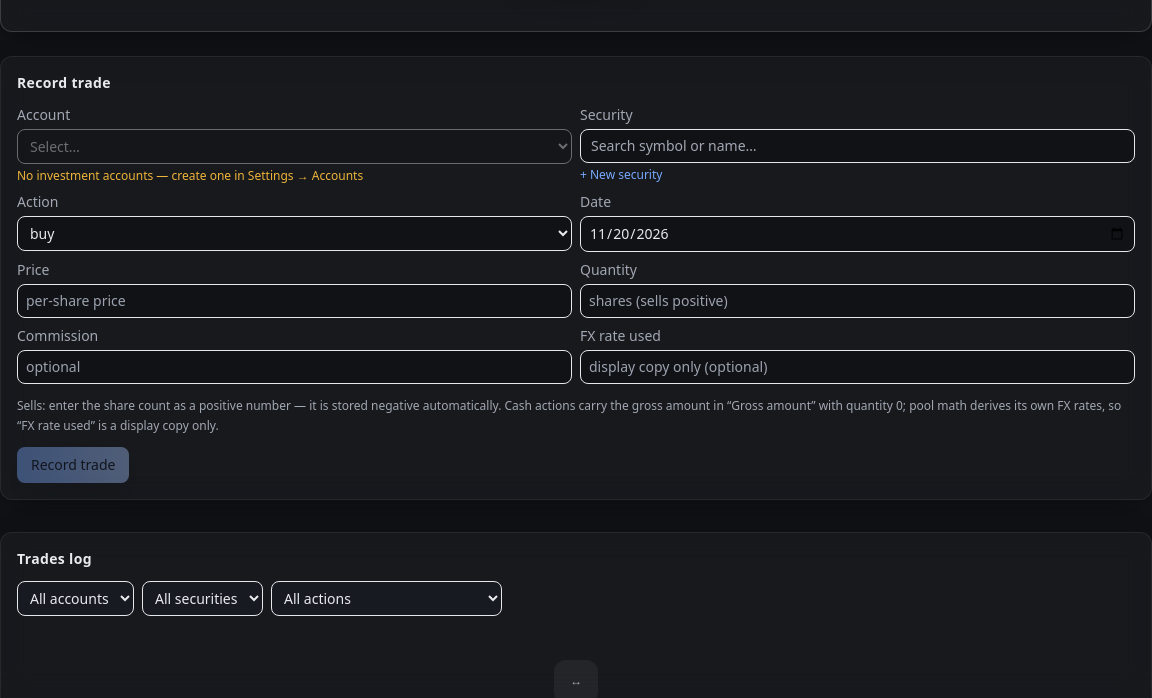
Test: M142 — the add form's suggestion chip › keeps the new-security form OUT of the trade form (no nested <form>)
(page scrolled)
Click the button "+ New security" at (621, 175), box [580,167,662,183]
(page scrolled)
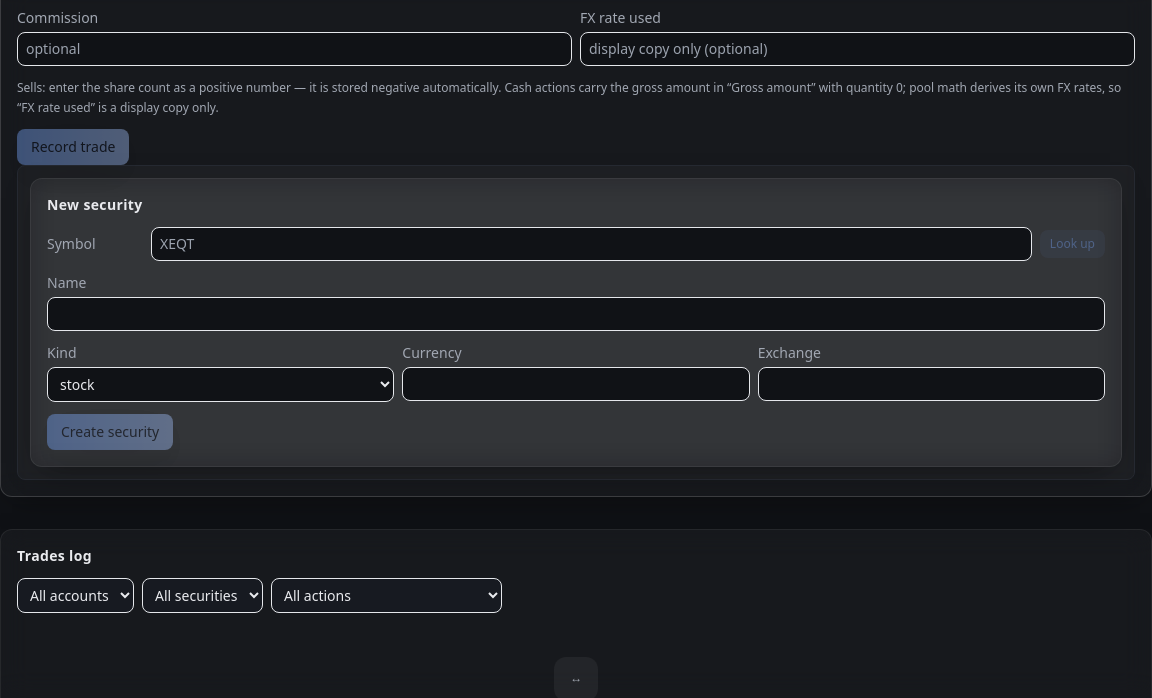
expect the form "Symbol Look up Name Kind Currency Exchange Create security" is shown: met, box [47,227,1105,450]
